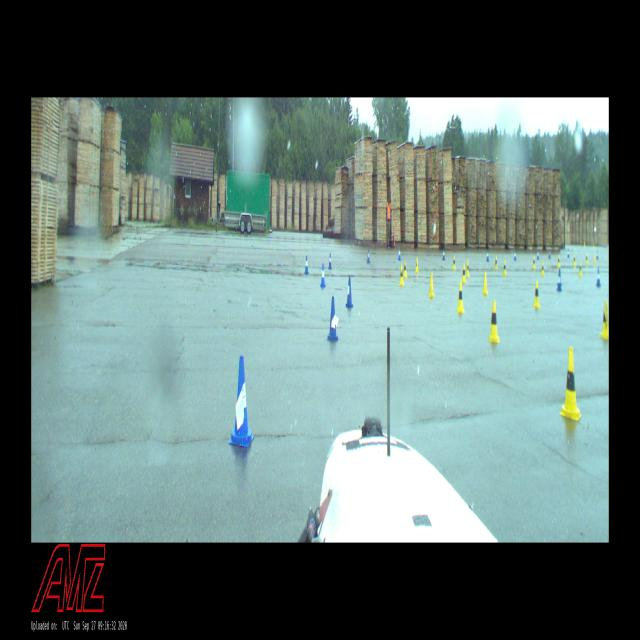blue_cone: (228, 355, 254, 448), (327, 296, 339, 342), (346, 277, 354, 307), (320, 263, 326, 287), (556, 271, 562, 291), (596, 268, 601, 286), (304, 254, 308, 274), (328, 253, 332, 269), (486, 248, 490, 262), (367, 249, 370, 264), (398, 246, 401, 260), (442, 247, 445, 260), (548, 249, 551, 260), (596, 250, 599, 261), (567, 248, 570, 258), (514, 250, 516, 261), (537, 250, 539, 260)
yellow_cone: (559, 346, 582, 421), (489, 300, 500, 343), (600, 300, 608, 340), (456, 282, 464, 313), (533, 279, 541, 308), (428, 272, 435, 298), (482, 271, 488, 295), (399, 264, 404, 286), (403, 260, 408, 278), (462, 264, 466, 283), (452, 255, 457, 270), (466, 260, 470, 278), (503, 260, 507, 276), (415, 257, 419, 273), (541, 261, 545, 276), (557, 254, 561, 268), (532, 256, 536, 269), (494, 256, 498, 269), (579, 262, 582, 276), (573, 254, 576, 266), (585, 253, 588, 265), (593, 252, 596, 264)
